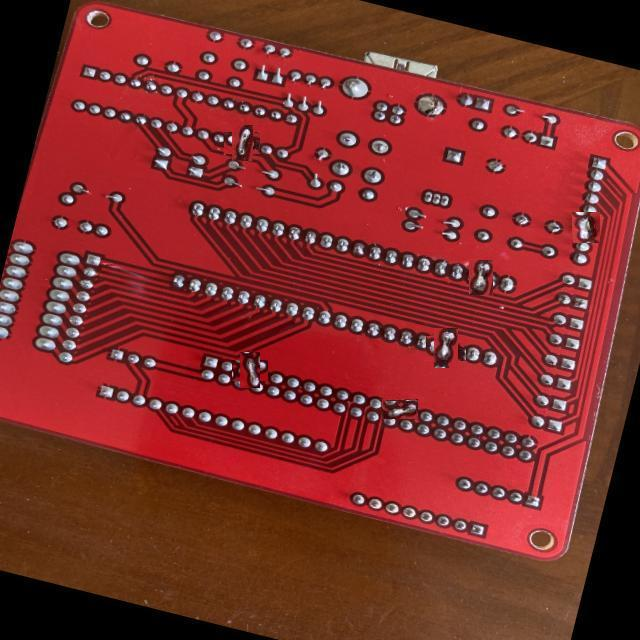damged: (430, 332, 462, 365), (466, 262, 496, 292), (228, 128, 257, 158), (572, 212, 600, 243), (236, 356, 264, 385), (382, 400, 418, 420)
